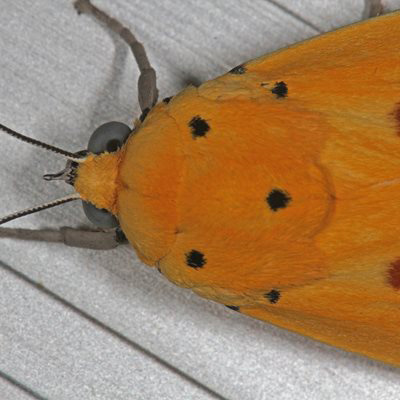Agape chloropyga: (1, 2, 400, 376)
moth: (1, 1, 400, 374)
